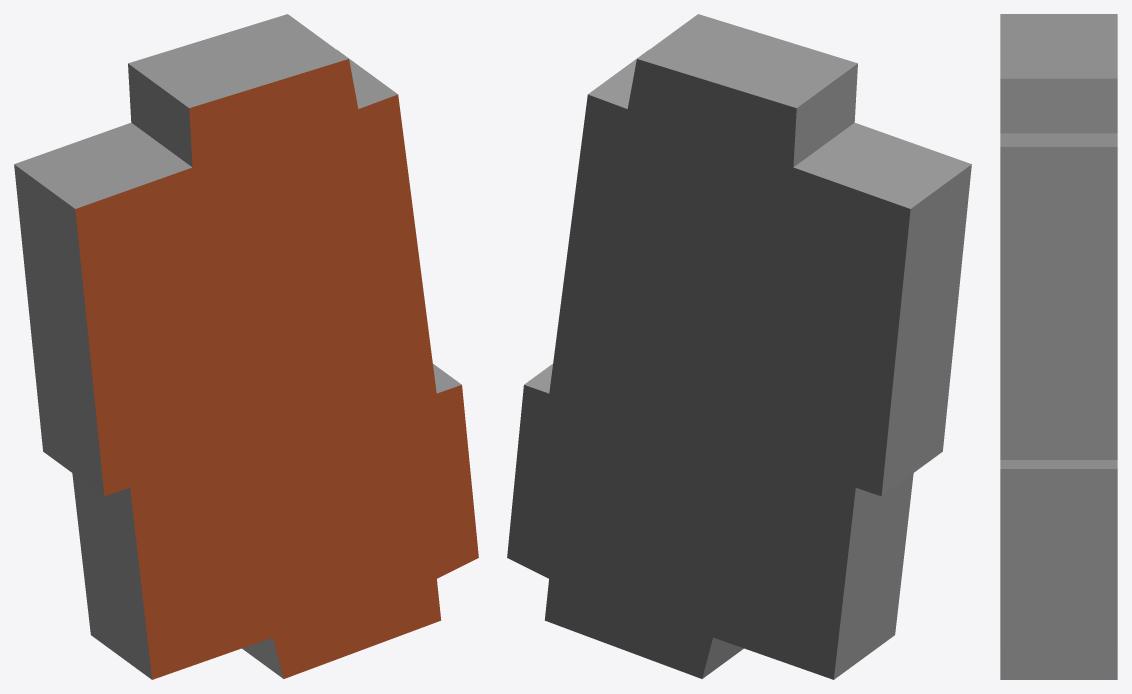
File: construction_6321_actual_A_Casa_h5m.obj
3 views of the same model, side by side, from view 1: azimuth 30°, elevation 25°; view 2: azimuth 150°, elevation 25°; view 3: azimuth 270°, elevation 25° (orthographic). The views are drawn at different scales.
Parts seen in each view (by area): view 1: construction_6321_actual_A_Casa; view 2: construction_6321_actual_A_Casa; view 3: construction_6321_actual_A_Casa.
Part boxes in pixels (bbox=[...]): construction_6321_actual_A_Casa: bbox=[14, 14, 478, 679]; construction_6321_actual_A_Casa: bbox=[507, 14, 971, 679]; construction_6321_actual_A_Casa: bbox=[1000, 14, 1117, 679].
Size of the model in its own units: 19.01 by 27.2 by 5.
